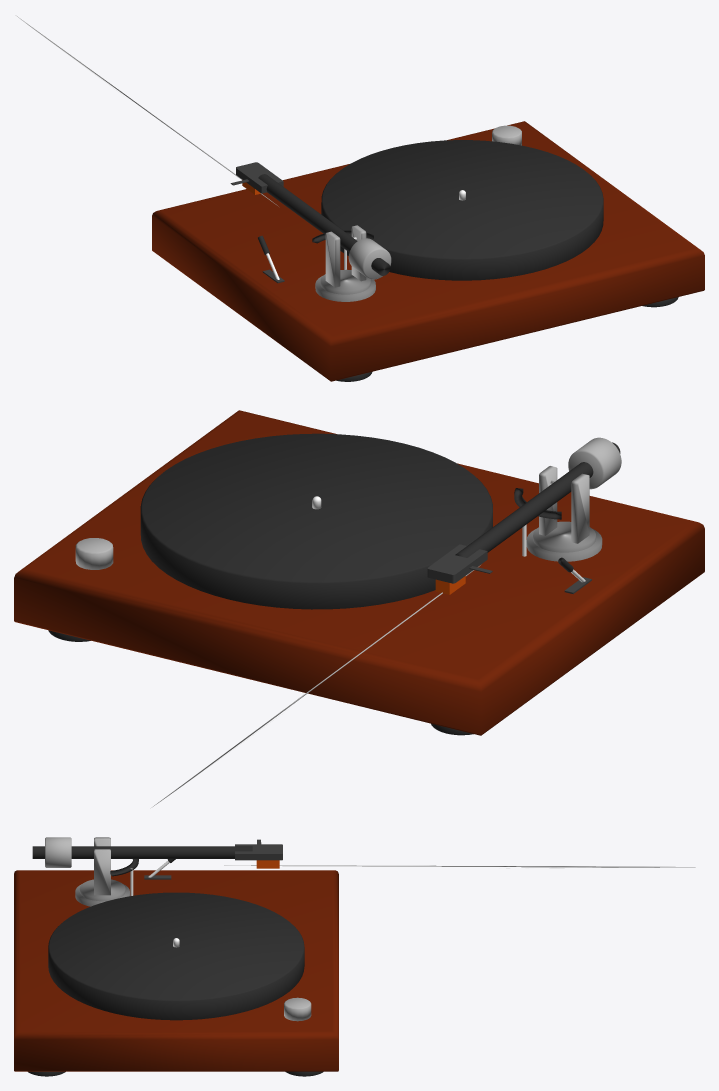
The model's file is turntable.fbx.
3 renders of one model, top to bottom at view 1: azimuth 30°, elevation 25°; view 2: azimuth 150°, elevation 25°; view 3: azimuth 270°, elevation 25°, orthographic. The views are drawn at different scales.
Visible parts, largest first — view 1: Deck, Platter, Arm, Weight, Cube.002, ArmBase, Head, Cylinder.007; view 2: Deck, Platter, Arm, Weight, Head, Cube.002, ArmBase, Switch, Cylinder.007, Cube.001, NeedleArm; view 3: Deck, Platter, Arm, Weight, Cube.001, NeedleArm, Head, ArmBase, Switch.
Boxes of the visible parts, x1,y1,x2,y2 form: Deck: (152,121,704,381); Platter: (321,140,603,280); Arm: (258,174,390,275); Weight: (348,238,391,279); Cube.002: (325,231,340,287); ArmBase: (320,269,370,294); Head: (236,162,283,193); Cylinder.007: (315,276,375,301); Deck: (14,410,704,735); Platter: (140,433,492,609); Arm: (455,442,620,557); Weight: (568,437,621,489); Head: (427,544,487,583); Cube.002: (571,473,589,543); ArmBase: (533,521,595,552); Switch: (75,538,113,569); Cylinder.007: (526,529,602,561); Cube.001: (539,466,557,535); NeedleArm: (150,565,480,808); Deck: (14,870,338,1071); Platter: (48,892,304,1020); Arm: (32,846,252,858); Weight: (45,837,71,867); Cube.001: (94,849,110,895); NeedleArm: (224,865,695,867); Head: (235,844,282,860); ArmBase: (79,879,125,901); Switch: (284,997,311,1021).
Size of the model in its own units: 429 by 127 by 755.
